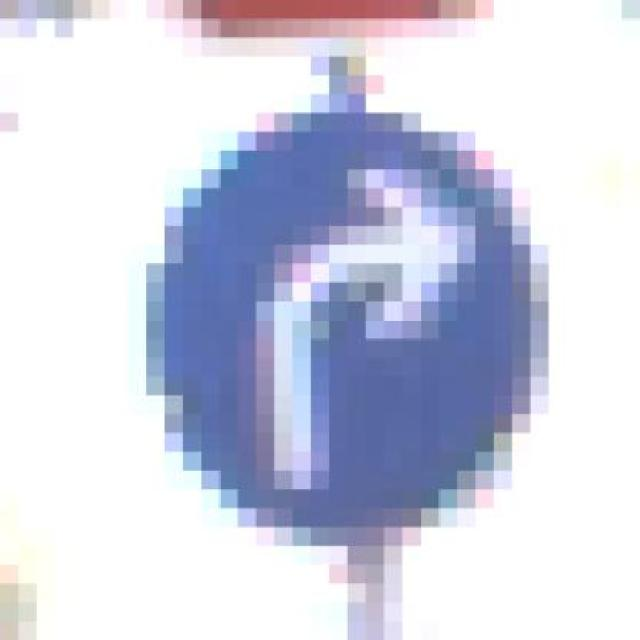Turn right ahead: (91, 57, 567, 566)
